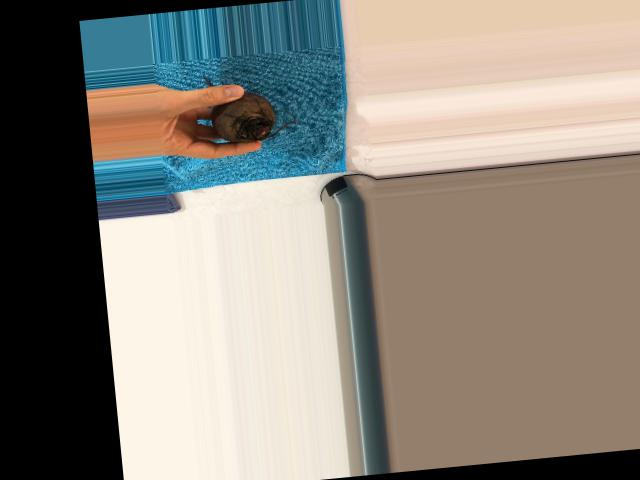beet: (203, 66, 297, 145)
